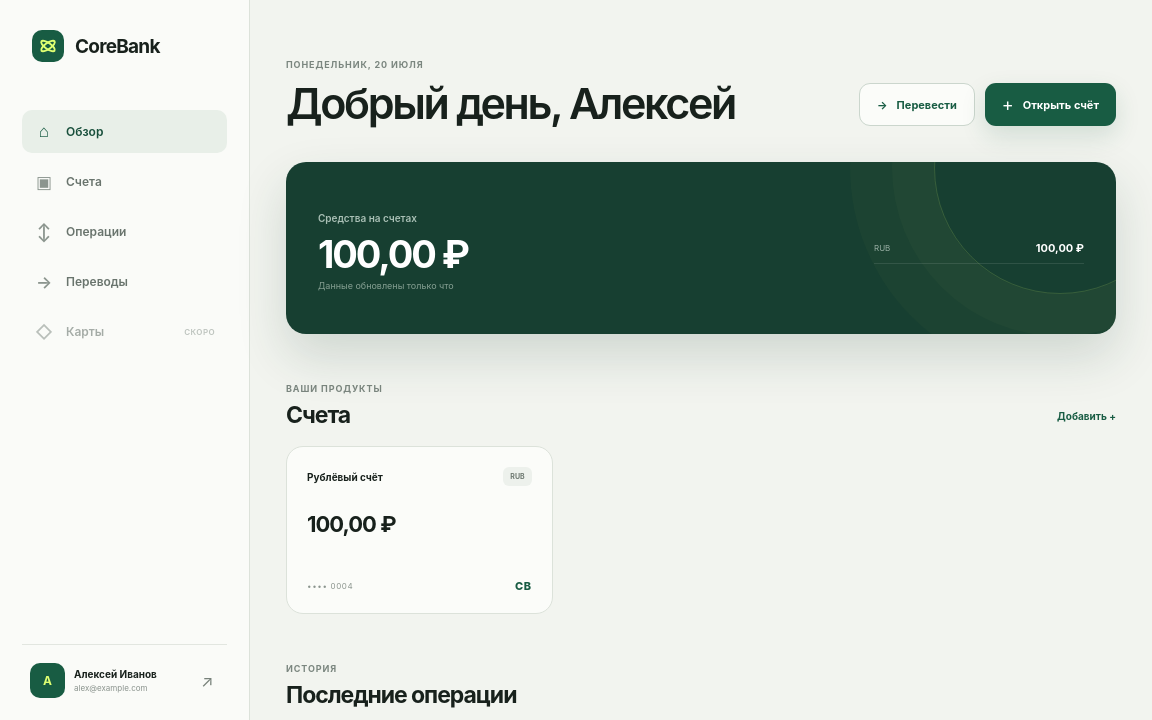
Scenario: dashboard operations › confirms a transfer and refreshes dashboard data
The image size is (1152, 720).
Expected: the text "Рублёвый счёт" is shown, 307,471 -> 383,483
Click the button "→ Перевести" at (917, 105), box 859,83 -> 975,126
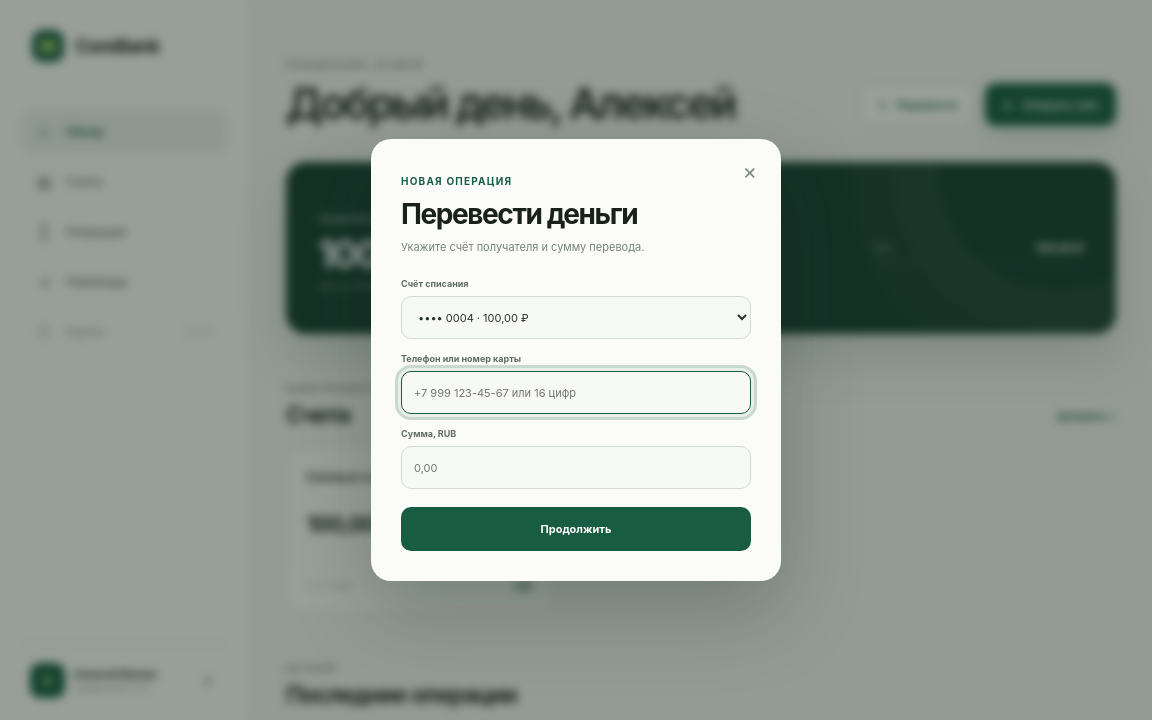
Type "+79990000002" into the field labelled "Телефон или номер карты" at (576, 392), box 401,371 -> 751,414
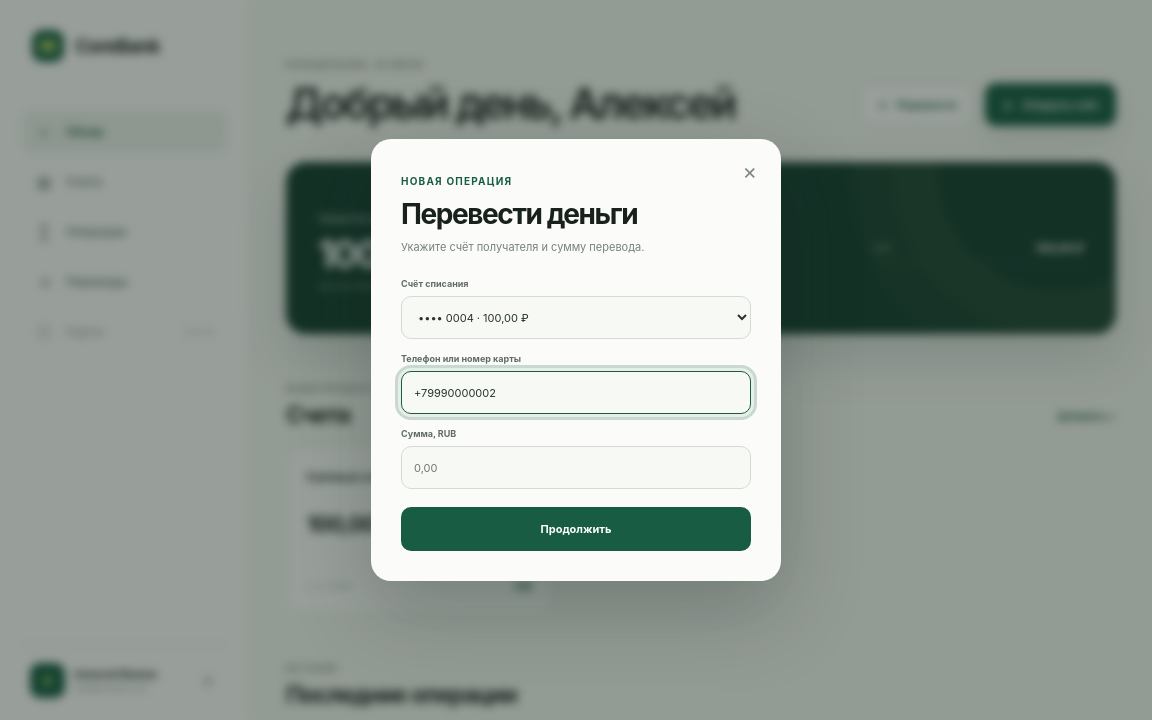
Type "12,50" into the field labelled "Сумма, RUB" at (576, 468), box 401,446 -> 751,489
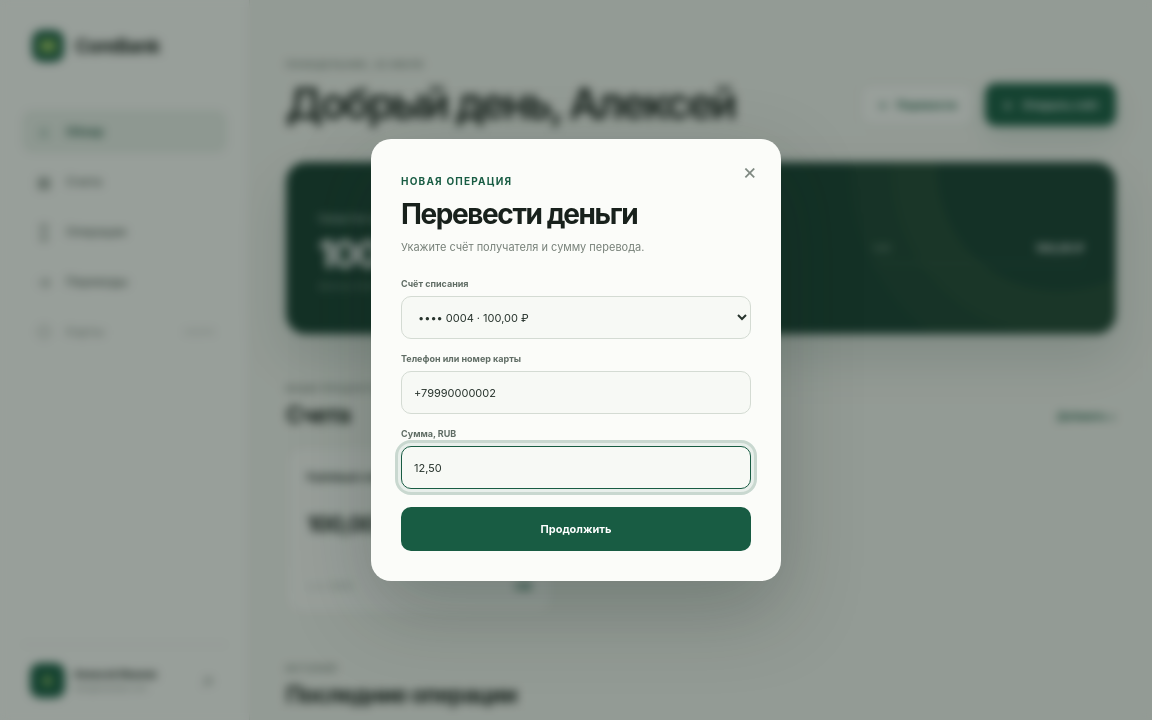
Click the button "Продолжить" at (576, 529), box 401,507 -> 751,551
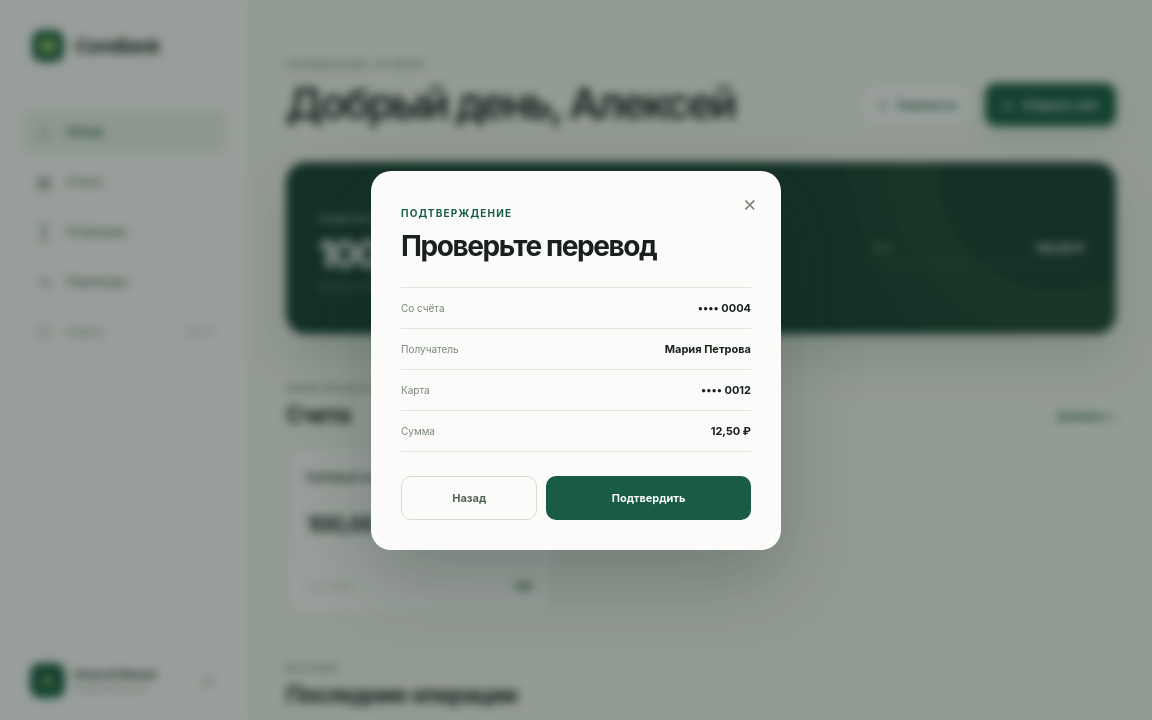
Click the button "Подтвердить" at (649, 498), box 546,476 -> 751,520
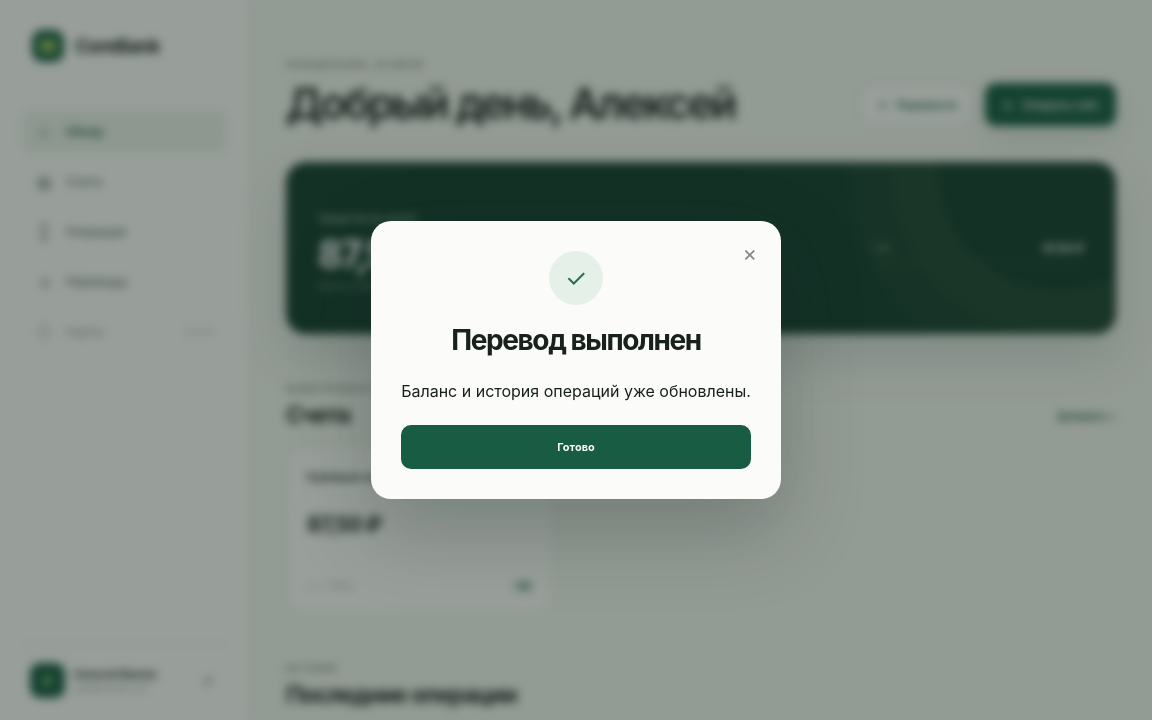
Expected: the heading "Перевод выполнен" is shown, 451,323 -> 701,357
